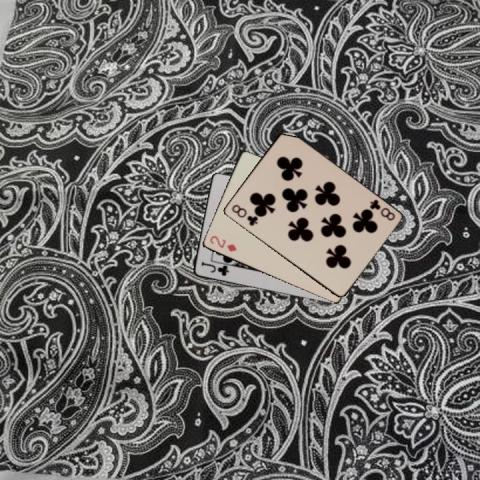2d: (207, 233, 238, 253)
8c: (228, 202, 258, 228), (366, 196, 396, 222)
Jc: (198, 259, 230, 278)
